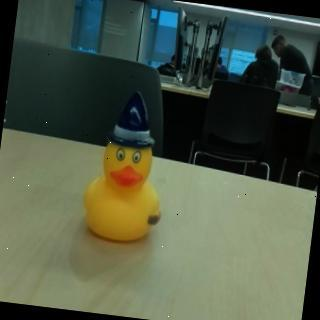duck_specialty: (78, 84, 178, 248)
